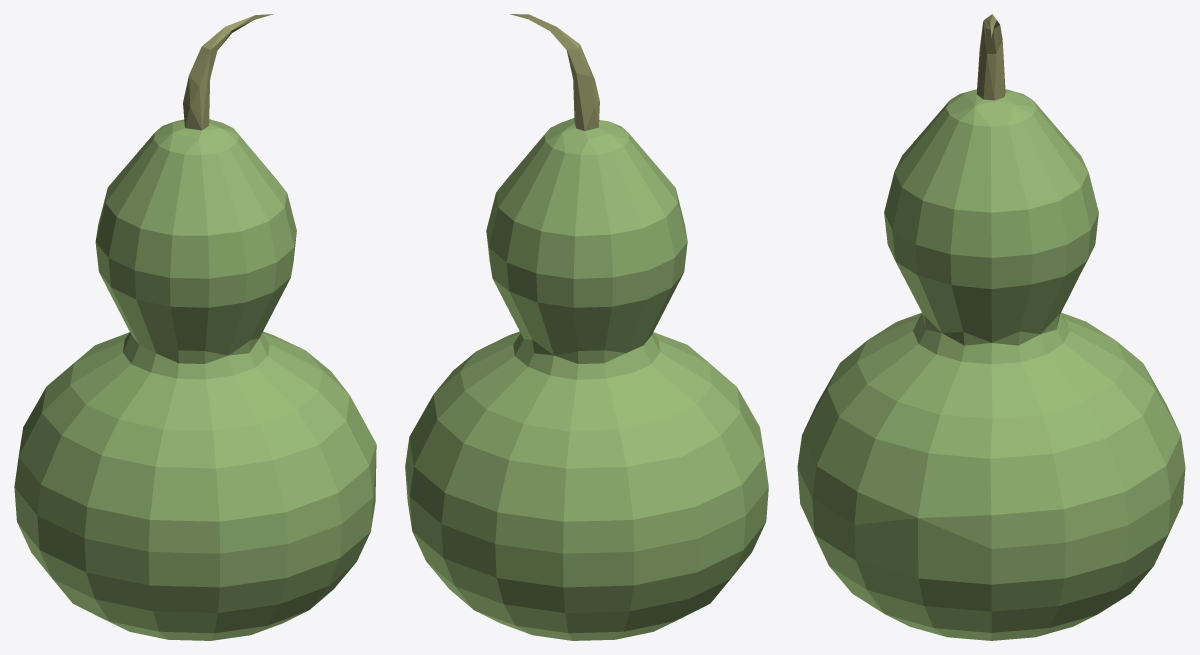
File: gourd.fbx
The picture shows the model from 3 angles, left to right: view 1: azimuth 30°, elevation 25°; view 2: azimuth 150°, elevation 25°; view 3: azimuth 270°, elevation 25°; orthographic projection. The views are drawn at different scales.
Visible parts, largest first — view 1: gourd; view 2: gourd; view 3: gourd.
Boxes of the visible parts, <box> form: gourd: <box>14,14,376,640</box>; gourd: <box>405,14,768,640</box>; gourd: <box>797,14,1185,640</box>.
Bounding box in the file's own units: 232 × 409 × 232.
